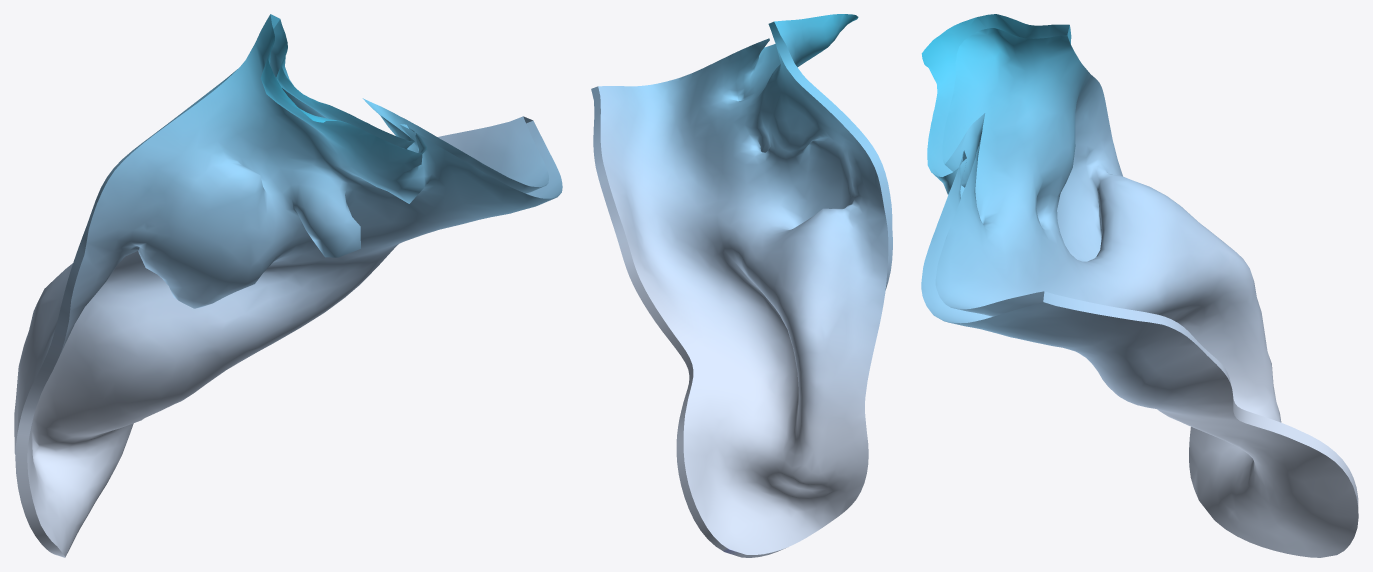
The model's file is s1_head.fbx.
3 renders of one model, left to right at view 1: azimuth 30°, elevation 25°; view 2: azimuth 150°, elevation 25°; view 3: azimuth 270°, elevation 25°, orthographic. The views are drawn at different scales.
Parts seen in each view (by area): view 1: si_head; view 2: si_head; view 3: si_head.
Boxes of the visible parts, x1,y1,x2,y2 form: si_head: [14, 14, 562, 557]; si_head: [591, 14, 892, 557]; si_head: [921, 14, 1358, 557].
Bounding box in the file's own units: 291 × 370 × 253.
